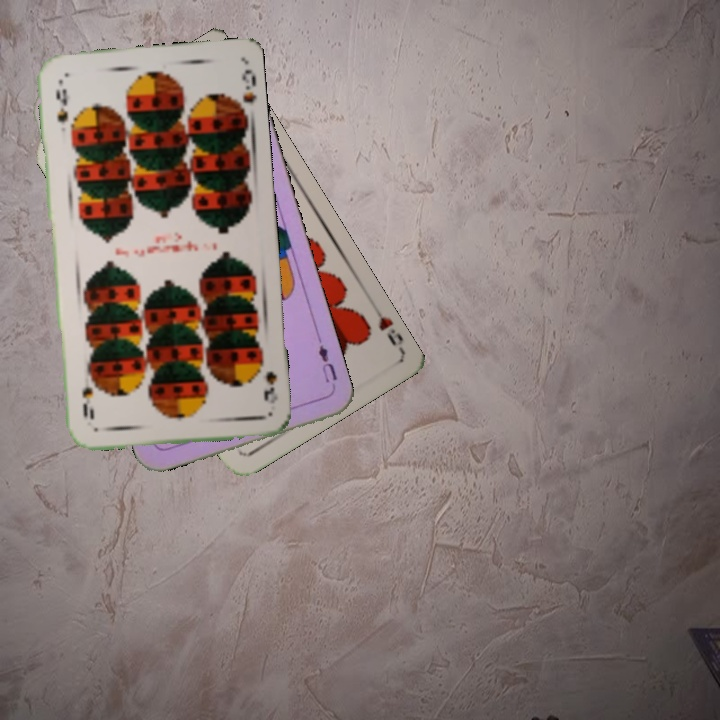EU: (313, 335, 340, 385)
H9: (374, 312, 405, 348)
S9: (252, 352, 280, 406), (51, 84, 71, 126)
